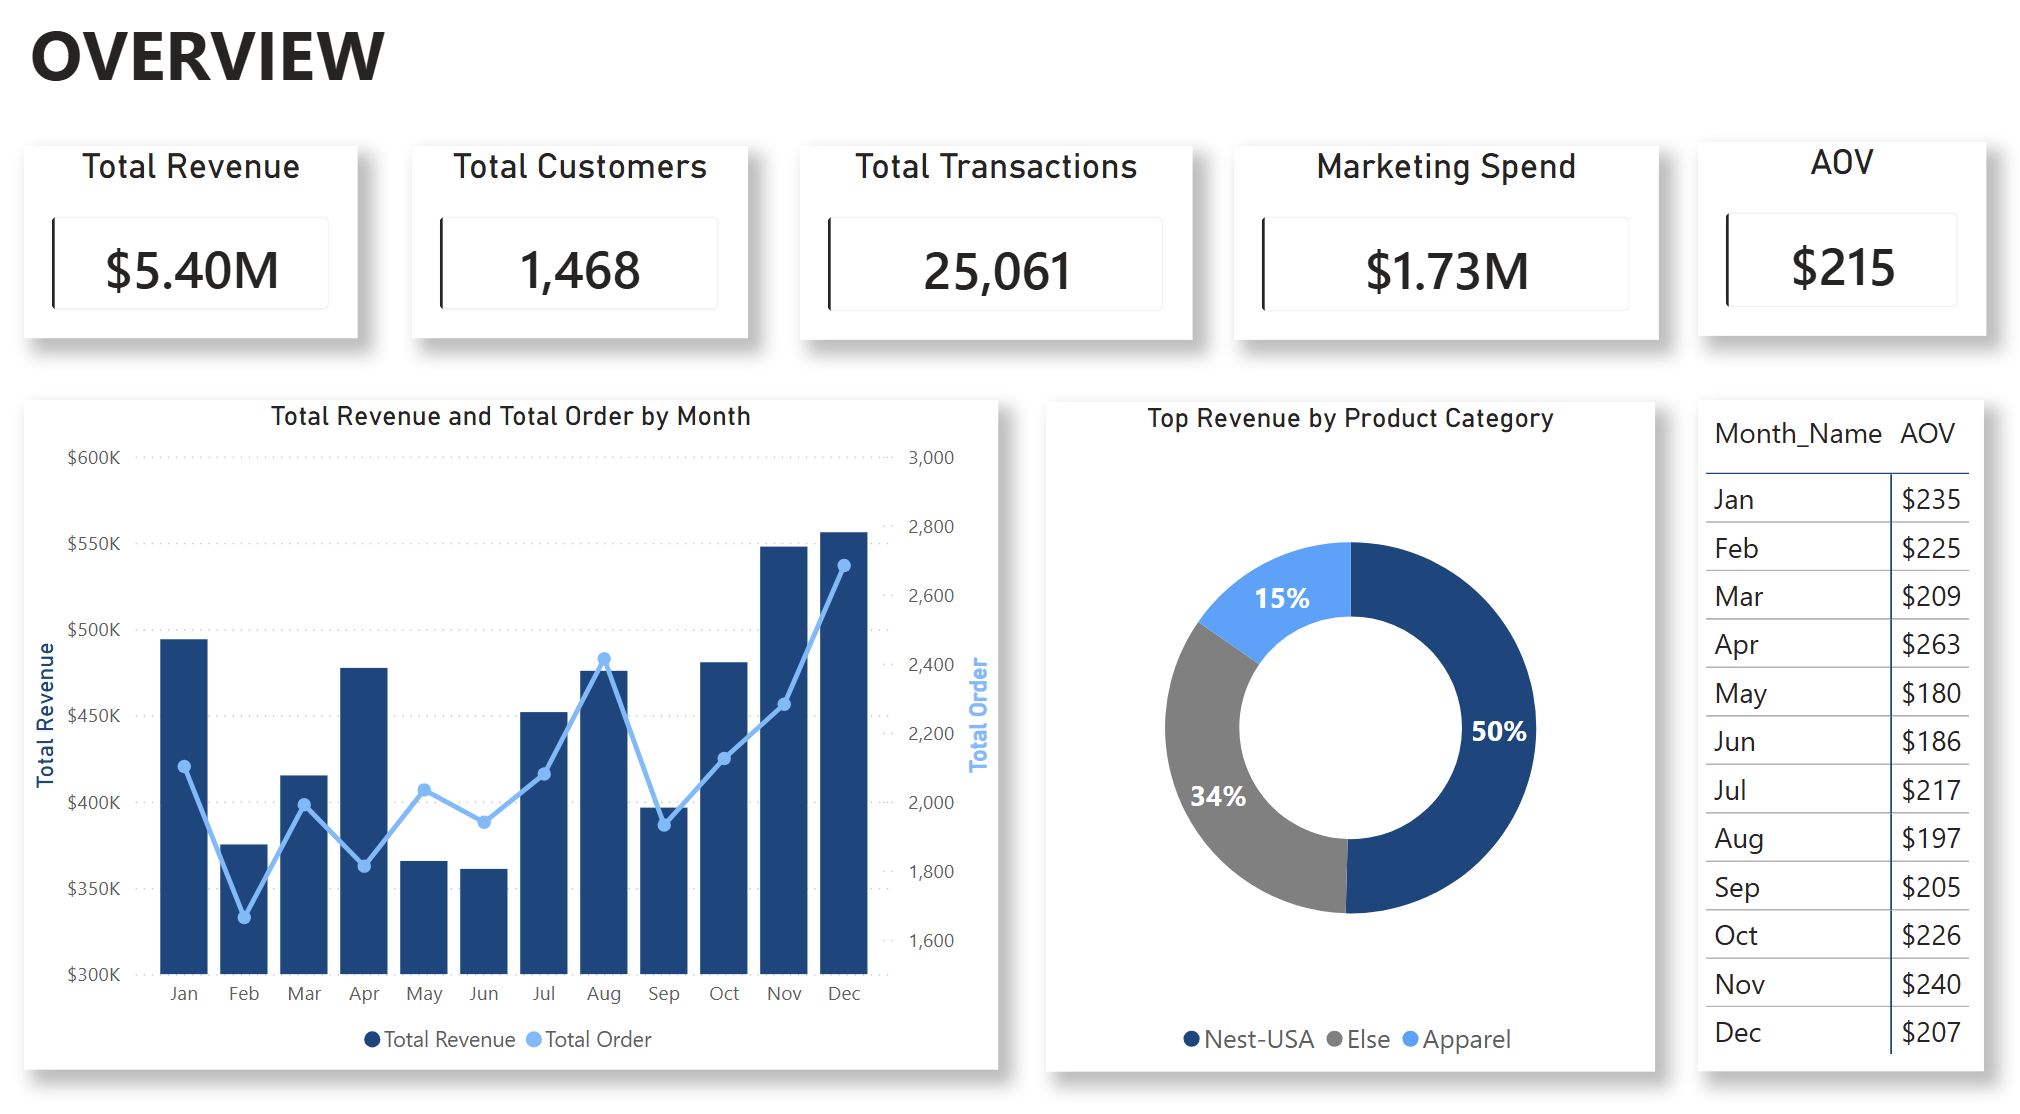

What the dashboard file says about the page in this screenshot:
{"tool":"powerbi","page":{"name":"Overview","canvas":[1280,720],"ordinal":0},"visuals":[{"type":"cardVisual","title":"Total Revenue","fields":{"Data":["Measure.Total Revenue"]},"box":[19.8,99,206.7,118.8],"z":0},{"type":"cardVisual","title":"Total Customers","fields":{"Data":["Measure.Total Customer"]},"box":[260,99,208,118.8],"z":1000},{"type":"cardVisual","title":"Total Transactions","fields":{"Data":["Measure.Total Order"]},"box":[500,98.6,242.9,120],"z":2000},{"type":"cardVisual","title":"AOV","fields":{"Data":["Measure.AOV"]},"box":[1055.7,97.1,178.6,120],"z":3000},{"type":"cardVisual","title":"Marketing Spend","fields":{"Data":["Measure.Total Marketing Spend"]},"box":[768.6,98.6,262.9,120],"z":4000},{"type":"donutChart","title":"Top Revenue by Product Category","fields":{"Category":["dim_product.Product_Category2"],"Y":["Measure.Total Revenue"]},"box":[652.9,257.1,377.1,414.3],"z":5000},{"type":"lineClusteredColumnComboChart","title":"Total Revenue and Total Order by Month","fields":{"Category":["dim_date.Month_Name"],"Y":["Measure.Total Revenue"],"Y2":["Measure.Total Order"]},"box":[19.8,256.2,602.9,414.7],"z":6000},{"type":"pivotTable","fields":{"Rows":["dim_date.Month_Name"],"Values":["Measure.AOV"]},"box":[1055.7,255.7,177.1,415.7],"z":7000},{"type":"textbox","box":[18.6,7.4,375.1,71.8],"z":8000}]}

Visuals, with their boxes in screenshot pixels (x1, y1, x2, y2), scaled from the page's 1280x720 canvas onto the 2020x1114 screenshot:
"Total Revenue" cardVisual: rect(31, 153, 357, 337)
"Total Customers" cardVisual: rect(410, 153, 739, 337)
"Total Transactions" cardVisual: rect(789, 153, 1172, 338)
"AOV" cardVisual: rect(1666, 150, 1948, 336)
"Marketing Spend" cardVisual: rect(1213, 153, 1628, 338)
"Top Revenue by Product Category" donutChart: rect(1030, 398, 1625, 1039)
"Total Revenue and Total Order by Month" lineClusteredColumnComboChart: rect(31, 396, 983, 1038)
pivotTable - dim_date.Month_Name x Measure.AOV: rect(1666, 396, 1946, 1039)
textbox: rect(29, 11, 621, 123)
